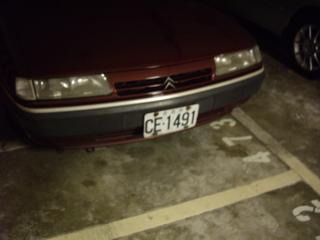plate: (142, 100, 198, 141)
